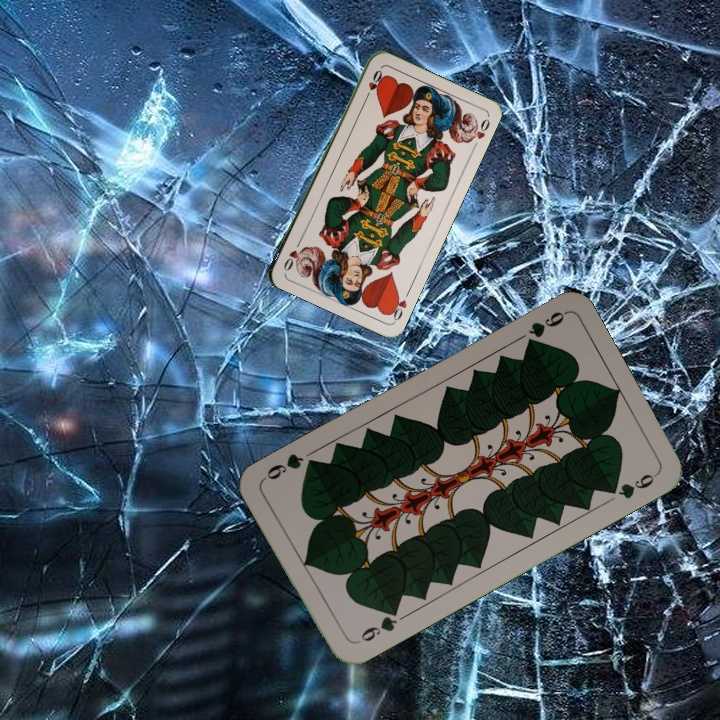G9: (522, 307, 568, 349), (356, 604, 402, 645)
HO: (384, 286, 413, 324), (361, 65, 384, 103)
